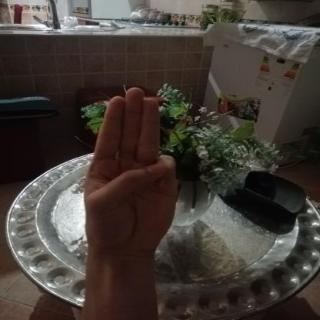THA: (75, 80, 190, 265)
